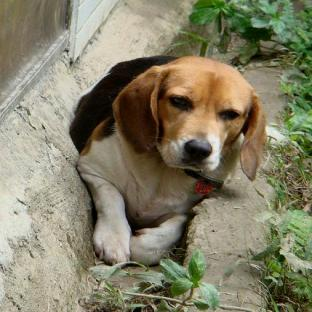Animal: (71, 56, 267, 265)
